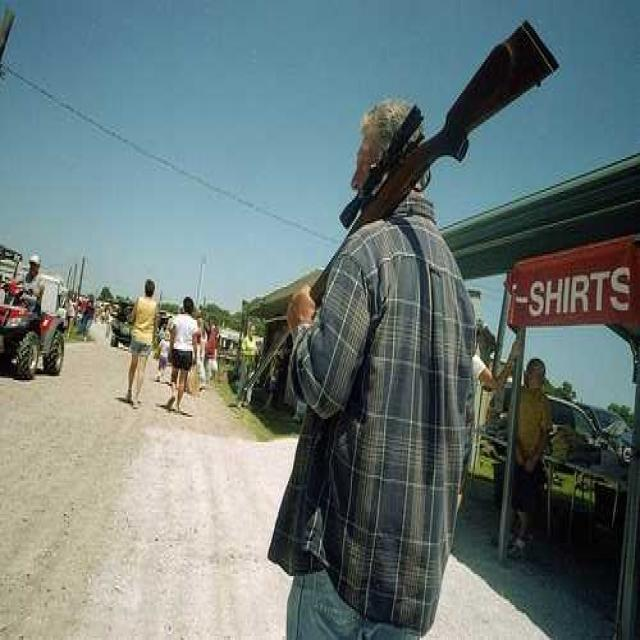weapon: (233, 0, 572, 415)
